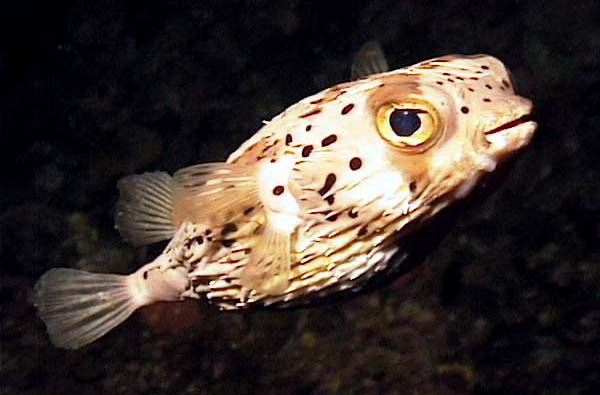Diodon_holocanthus: (35, 30, 554, 355)
